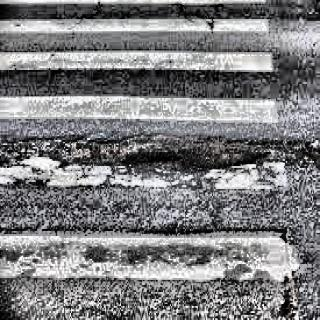crack: (75, 227, 283, 248), (279, 221, 303, 320)
pothole: (104, 125, 318, 195)
